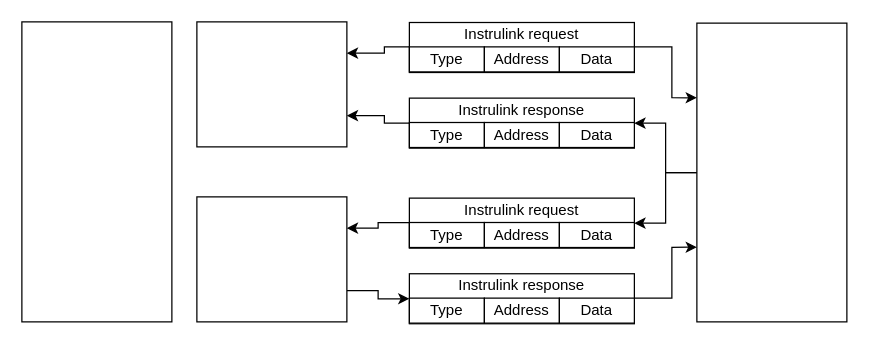
This 869x355 diagram has some shape labels left out. The centre of each missing label's shape, as x and y in pixels:
"Emulator" goes at point 96,171.
"Instrument" goes at point 771,172.
"IRQ Socket" goes at point 271,259.
"Main Socket" goes at point 271,84.
